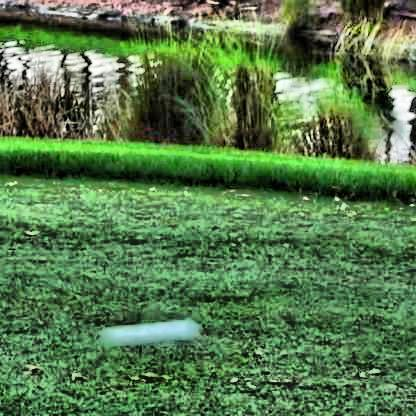golfball: (99, 314, 200, 347)
